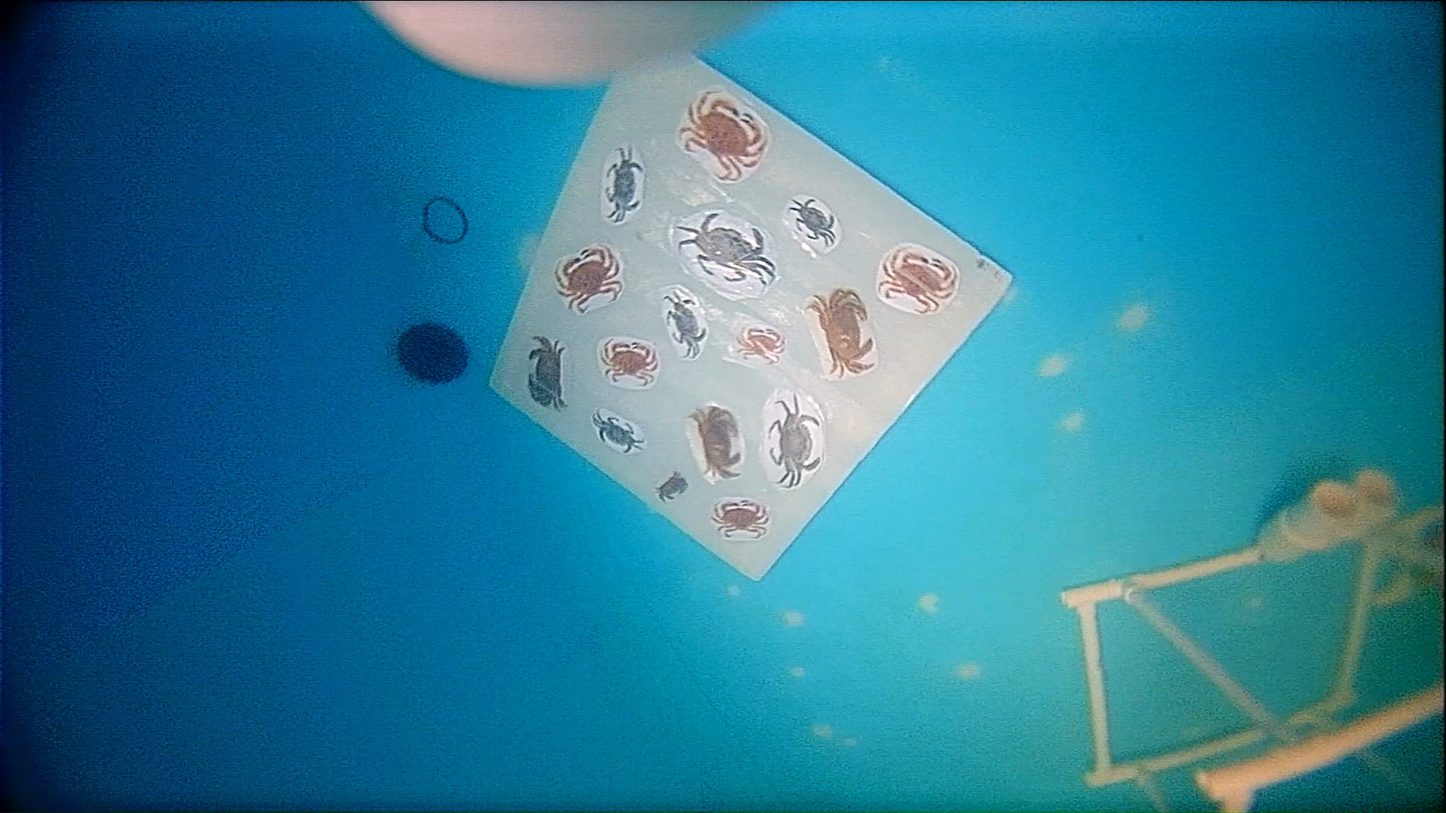GreenCrab: (679, 212, 775, 282), (766, 394, 821, 487), (607, 148, 642, 223), (789, 199, 835, 245)
